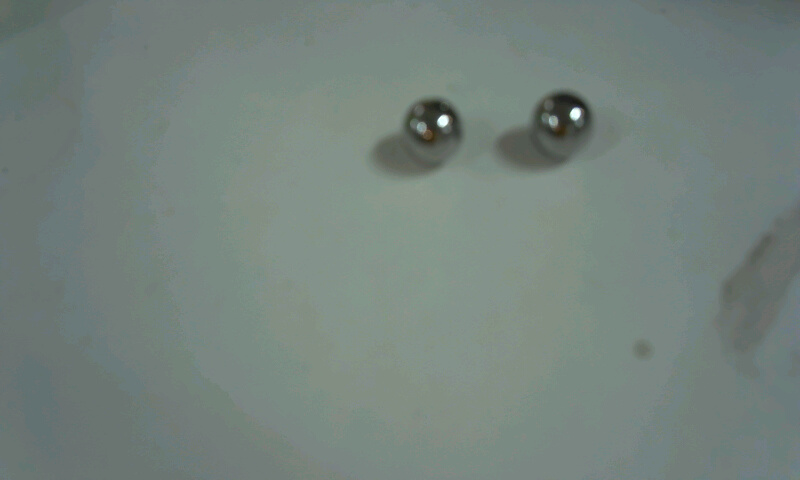steelball: (510, 80, 617, 193), (385, 79, 481, 190)
